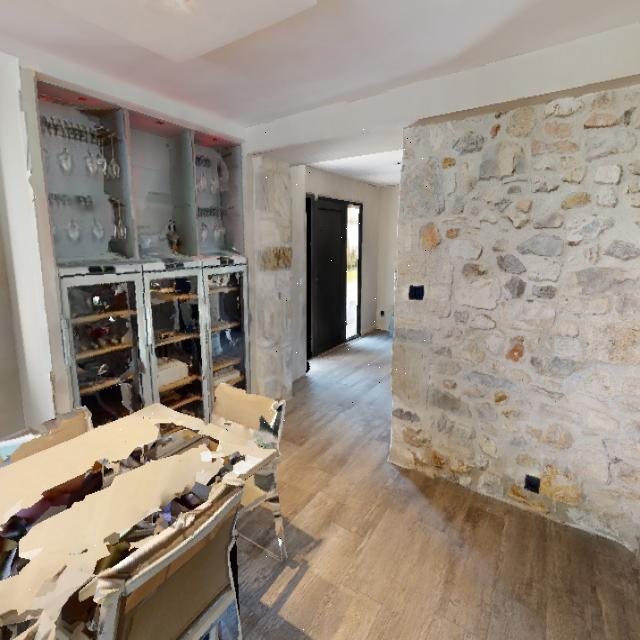chair: (175, 374, 312, 564)
door-frame: (260, 124, 427, 445)
table: (0, 382, 323, 640)
